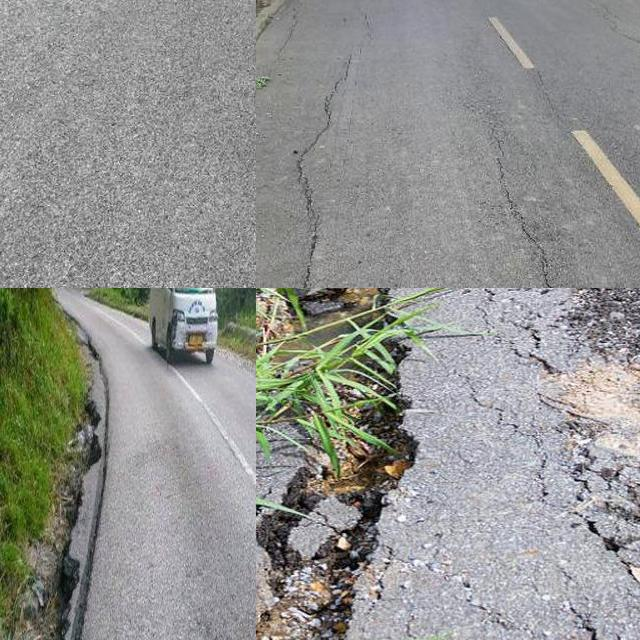Memanjang: (256, 37, 395, 288), (471, 120, 584, 288)
Pinggir: (256, 288, 457, 640), (0, 355, 122, 640)
